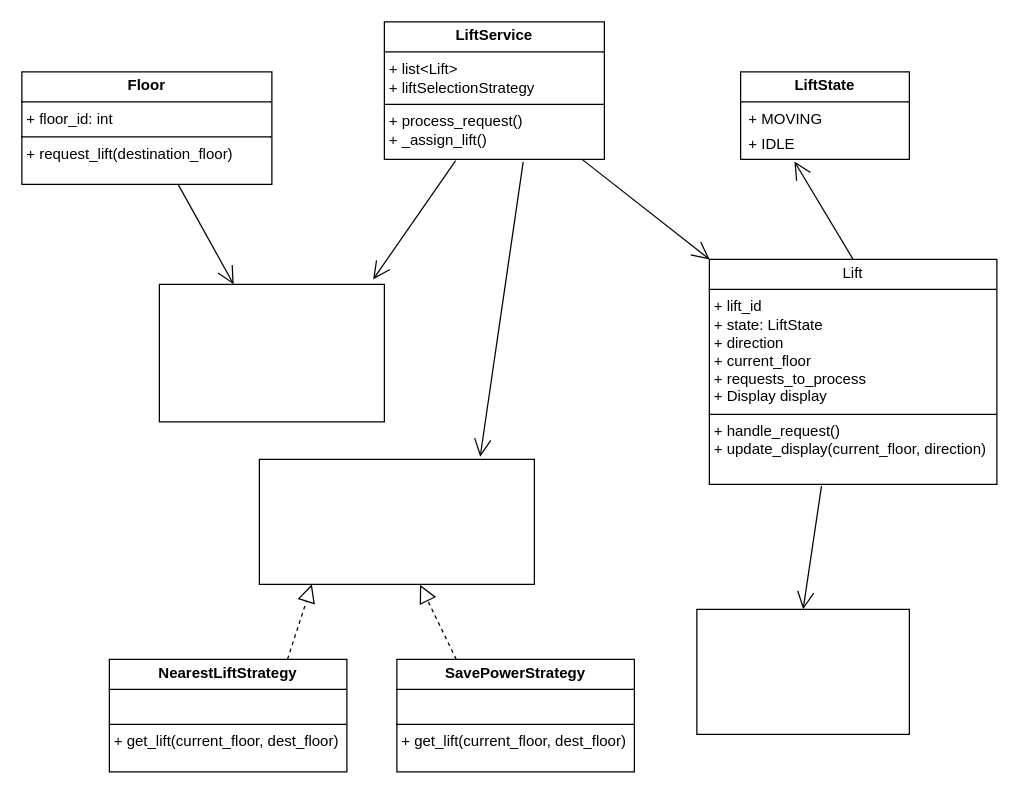
The diagram is 1019 pixels wide and 794 high, and some of its shapes have lost their labels. The box of each missing label's shape, as (x1, y1, x2, y2) in pixels:
<<Interface>> LiftSelectionStrategy + get_lift(current_floor, destination_floor): (258, 458, 534, 584)
Display + current_floor_id + direction + update_display(): (696, 608, 909, 734)
RequestCommand + curr_floor_id + destination_floor_id + request_id + execute(): (158, 283, 384, 422)
